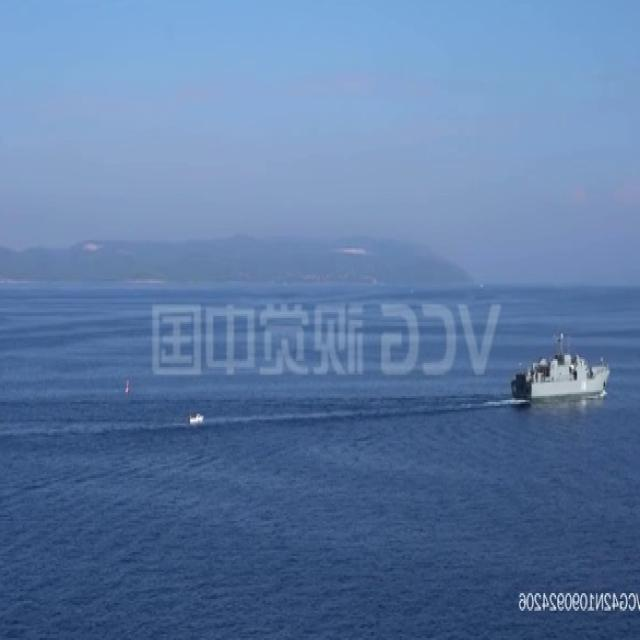houseboat: (189, 411, 206, 426)
navalvessels: (517, 328, 614, 404)
